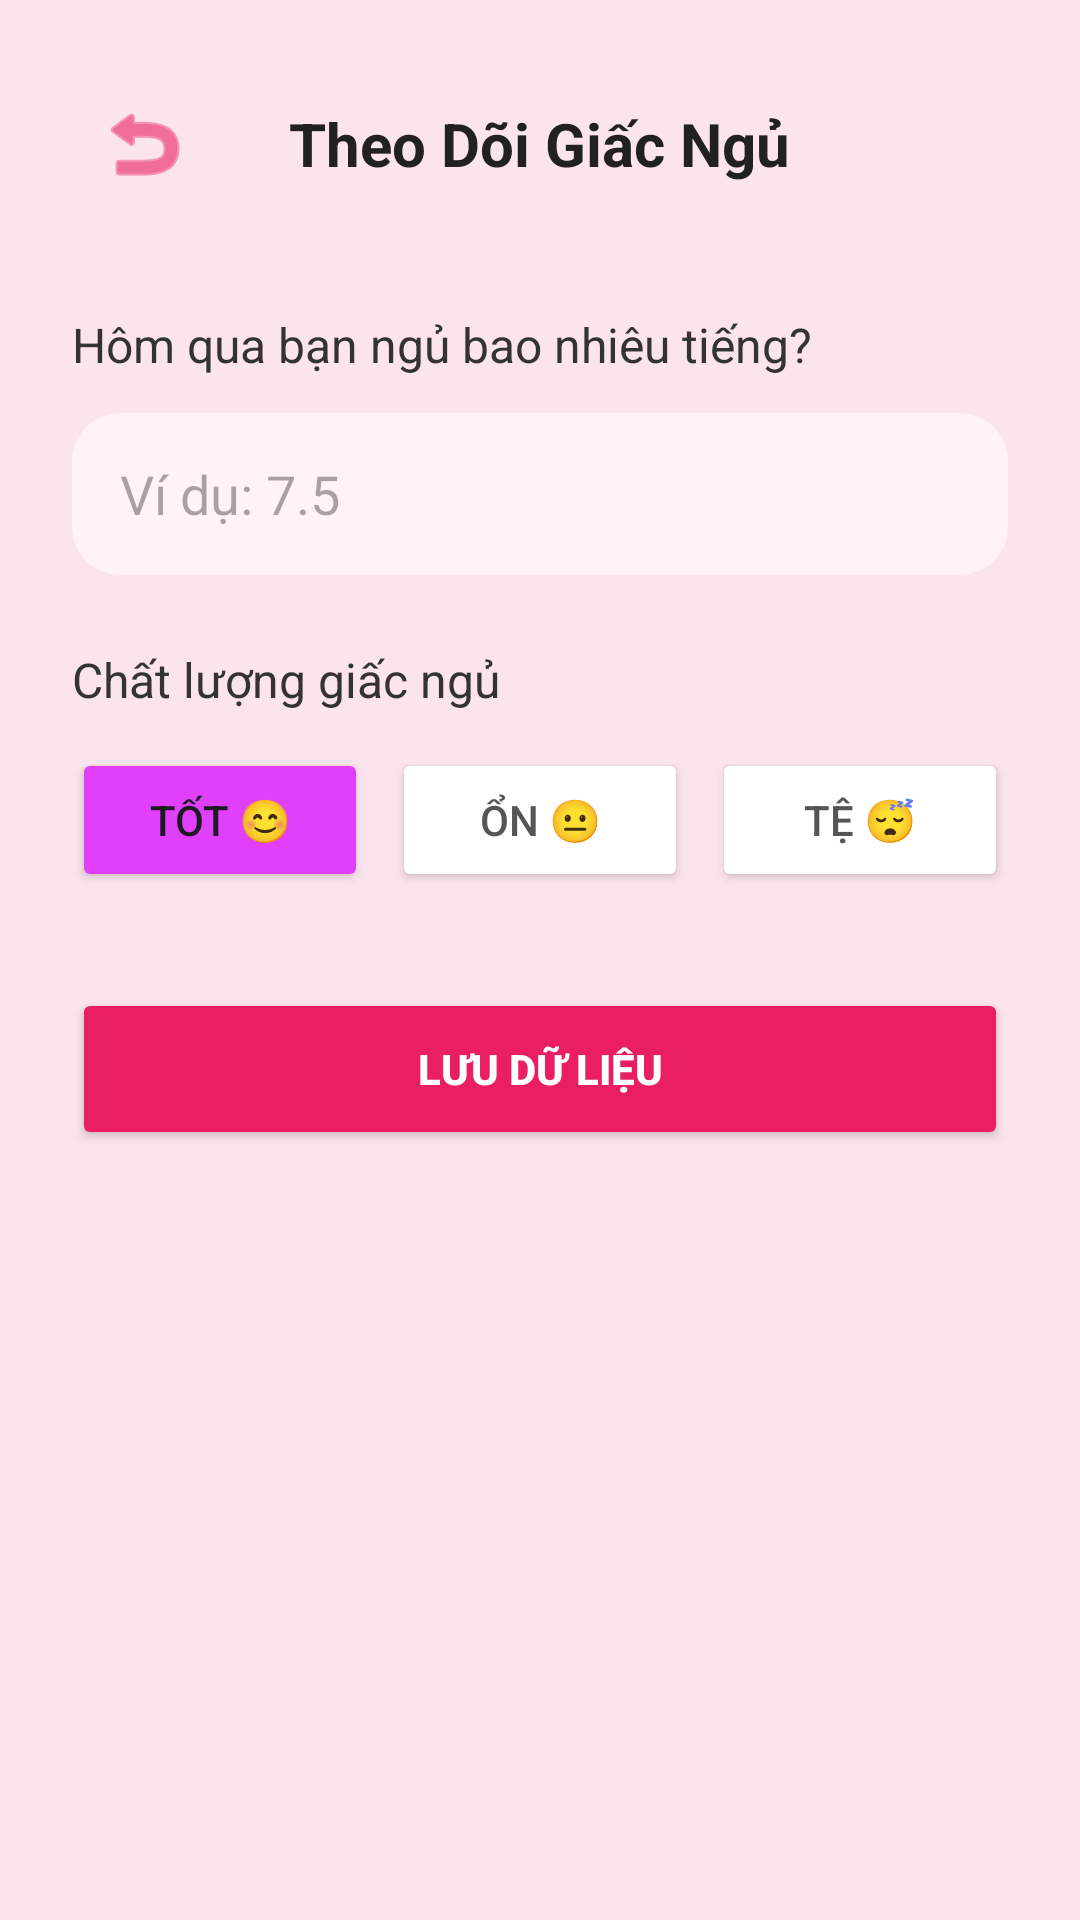

Screen size 1080 x 1920. Icon name, then its box in pixels as (x1, y1, x2, y2):
revert: (111, 113, 180, 176)
